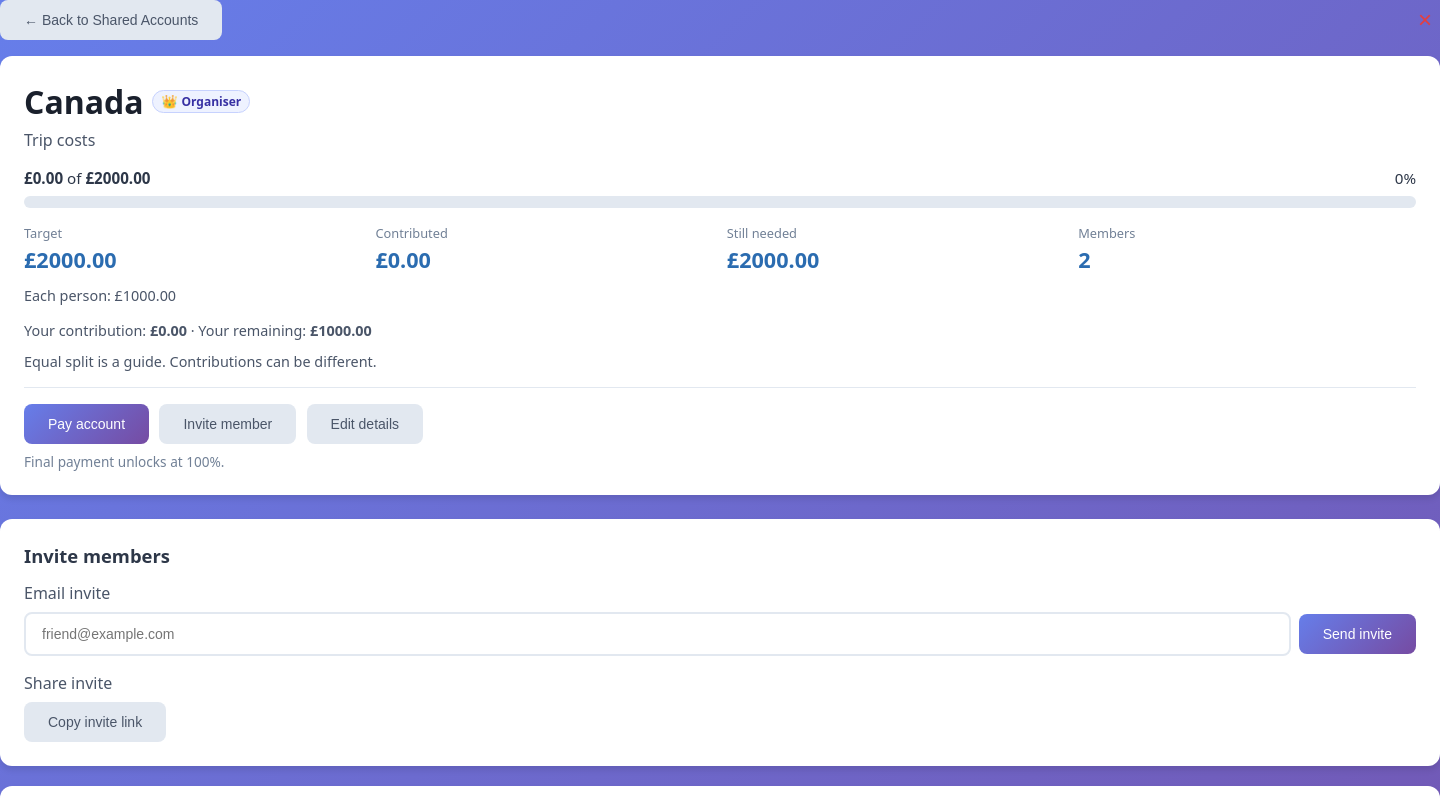
Scenario: SharedAccountDetail Pay account › asks before contributing more than the remaining share
Click the button "Pay account" at (87, 424), box [24,404,149,444]
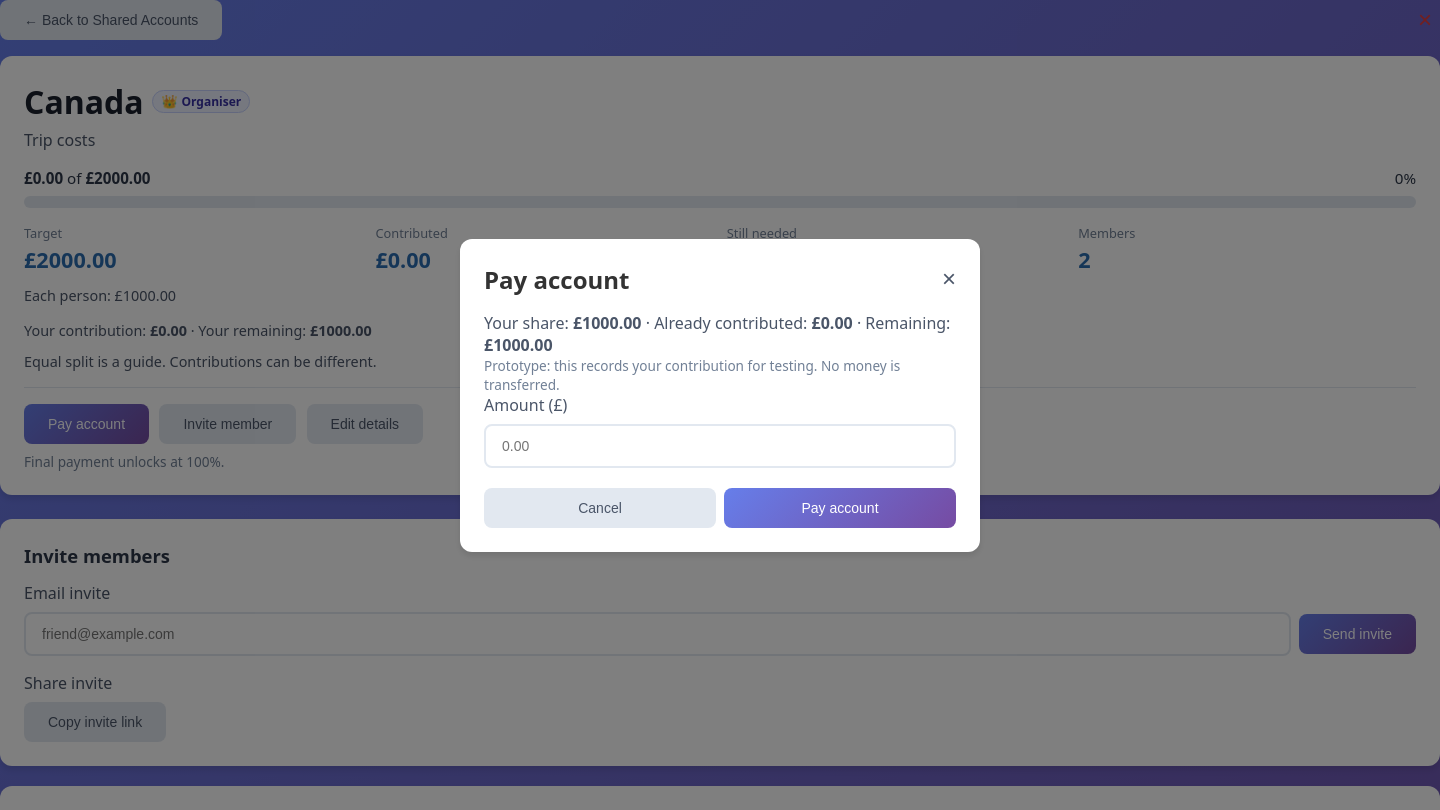
Type "1100" into the number field labelled "Amount (£)" at (720, 446), box [484,424,956,468]
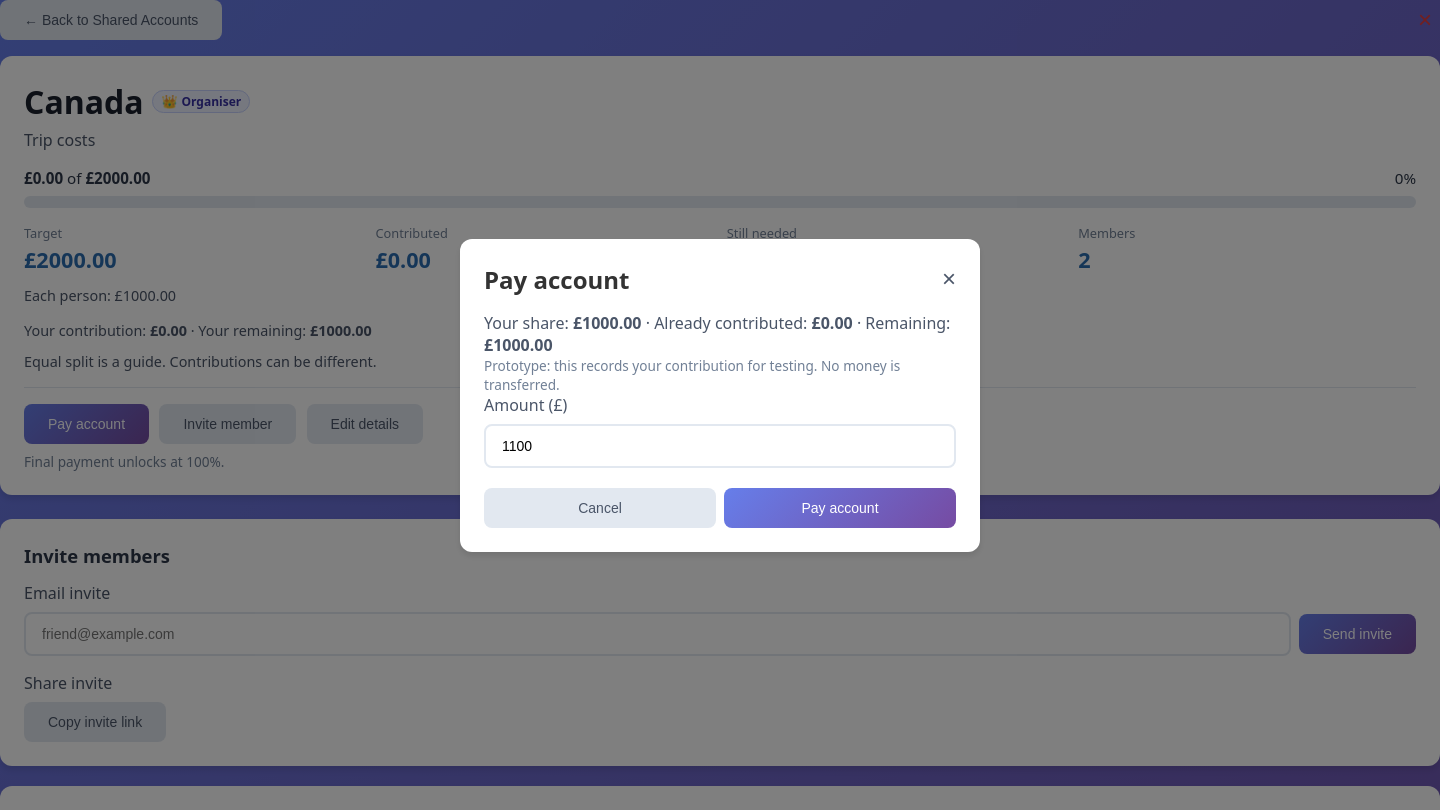
Submit the form labelled "Amount (£) Cancel Pay account", box [484,394,956,528]
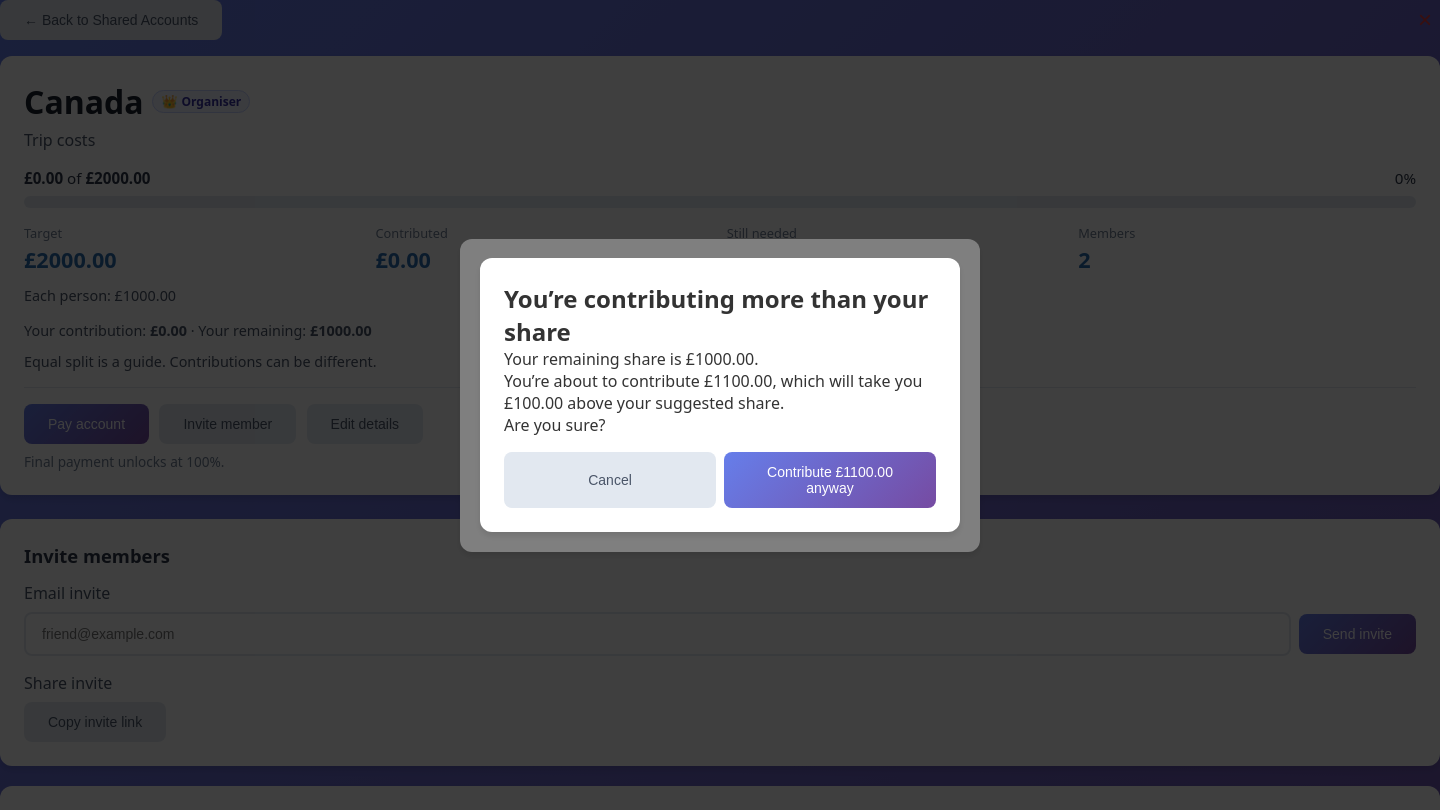
Now the text "Your remaining share is £1000.00." is shown, box [504,348,758,370]
Now the text "take you £100.00 above your suggested share" is shown, box [504,370,936,414]
